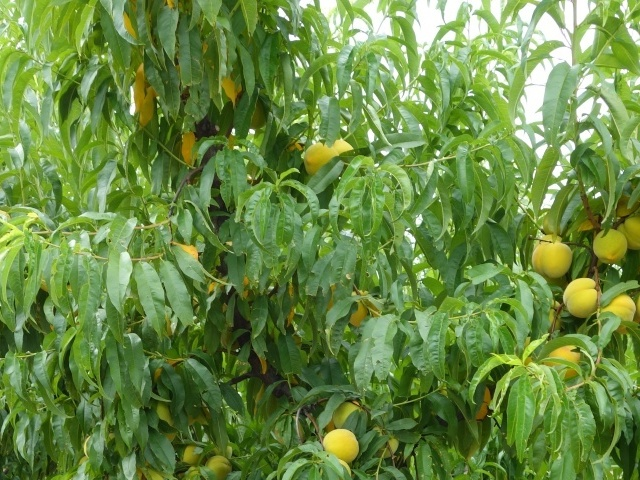peach: (531, 237, 576, 283), (538, 338, 586, 381), (564, 273, 605, 321), (592, 224, 631, 269), (320, 425, 361, 467), (598, 291, 639, 332), (326, 393, 366, 434), (299, 137, 341, 176), (345, 287, 378, 329), (612, 210, 640, 255), (204, 452, 235, 480), (178, 443, 205, 471)
